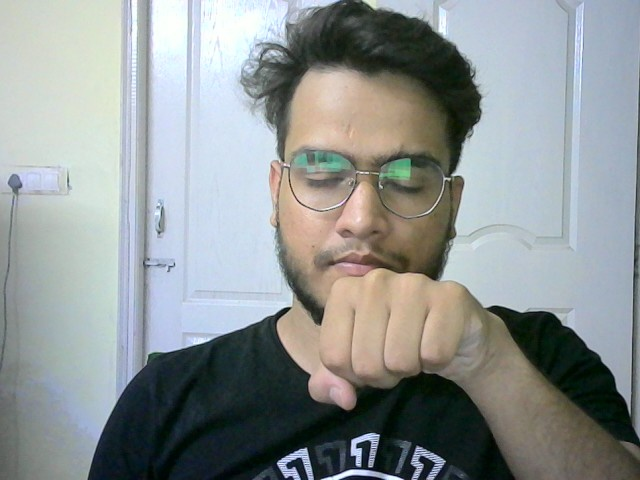Yes: (303, 266, 483, 410)
